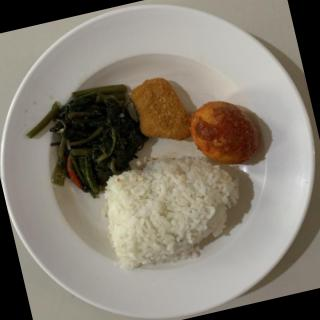Nasi: (98, 146, 251, 276)
